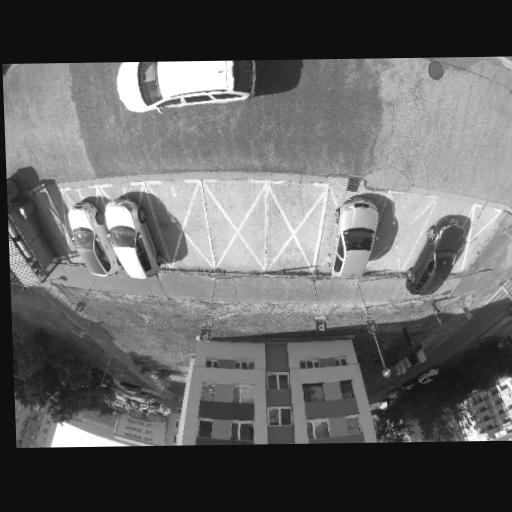busy: (114, 60, 271, 112), (327, 198, 394, 280), (407, 215, 471, 297), (101, 201, 162, 282), (7, 192, 54, 292), (62, 199, 112, 277), (414, 367, 441, 384)
free: (217, 194, 261, 256), (163, 193, 204, 253), (272, 200, 313, 259), (376, 211, 413, 263), (464, 216, 487, 253)
